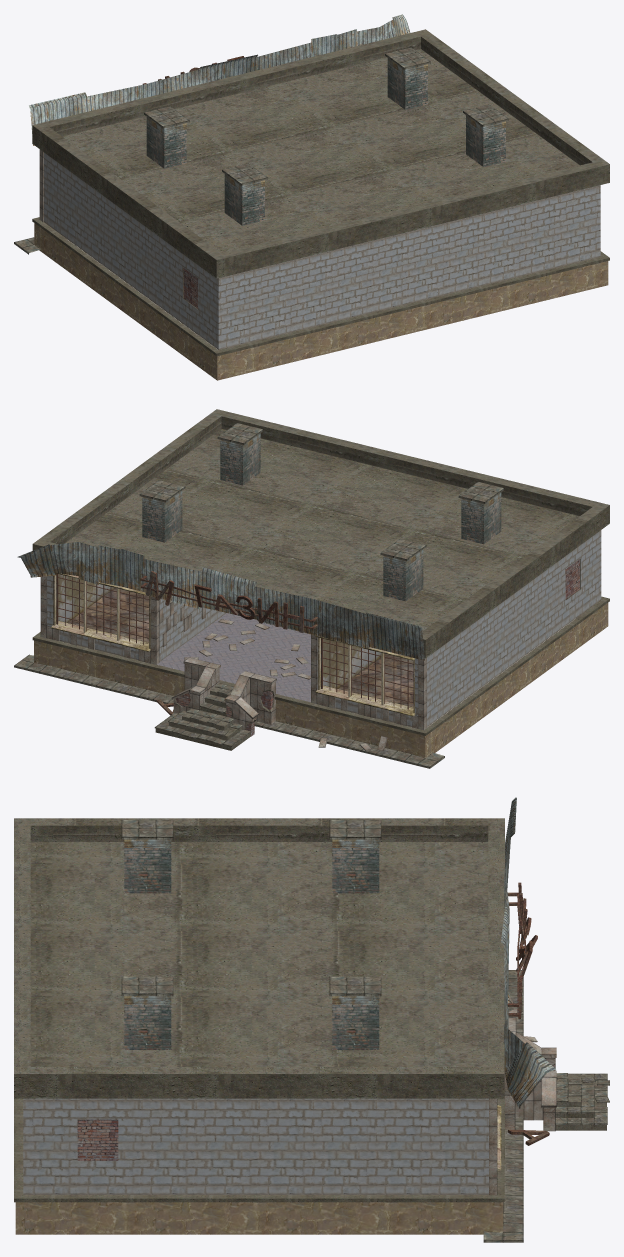
File: build01.glb
3 renders of one model, top to bottom at view 1: azimuth 30°, elevation 25°; view 2: azimuth 150°, elevation 25°; view 3: azimuth 270°, elevation 25°, orthographic. The views are drawn at different scales.
Parts seen in each view (by area): view 1: Krisha, Wall, Fundament, Metall_List; view 2: Krisha, Fundament, Wall, Metall_List, Krilzho, Windows, Plitka_decal_07 - Default_0, Wall_interior, Magazin, PlitkaFasad; view 3: Krisha, Wall, Fundament, Krilzho, Metall_List, Magazin, PlitkaFasad.
Part boxes in pixels (x1=…): Krisha: x1=32, y1=29, x2=609, y2=278; Wall: x1=43, y1=152, x2=600, y2=349; Fundament: x1=32, y1=217, x2=609, y2=380; Metall_List: x1=29, y1=14, x2=410, y2=145; Krisha: x1=32, y1=409, x2=609, y2=658; Fundament: x1=32, y1=588, x2=609, y2=758; Wall: x1=47, y1=530, x2=601, y2=726; Metall_List: x1=17, y1=542, x2=424, y2=660; Krilzho: x1=14, y1=654, x2=444, y2=768; Windows: x1=51, y1=573, x2=415, y2=716; Plitka_decal_07 - Default_0: x1=46, y1=602, x2=418, y2=750; Wall_interior: x1=58, y1=574, x2=385, y2=688; Magazin: x1=140, y1=571, x2=318, y2=715; PlitkaFasad: x1=40, y1=576, x2=426, y2=730; Krisha: x1=14, y1=818, x2=504, y2=1098; Wall: x1=23, y1=1098, x2=488, y2=1194; Fundament: x1=14, y1=1097, x2=504, y2=1234; Krilzho: x1=483, y1=970, x2=609, y2=1242; Metall_List: x1=501, y1=797, x2=555, y2=1108; Magazin: x1=507, y1=882, x2=549, y2=1145; PlitkaFasad: x1=489, y1=1098, x2=497, y2=1195.
Size of the model in its own units: 1978 by 693 by 1843.
Materials: 14 (14 with a texture image).
